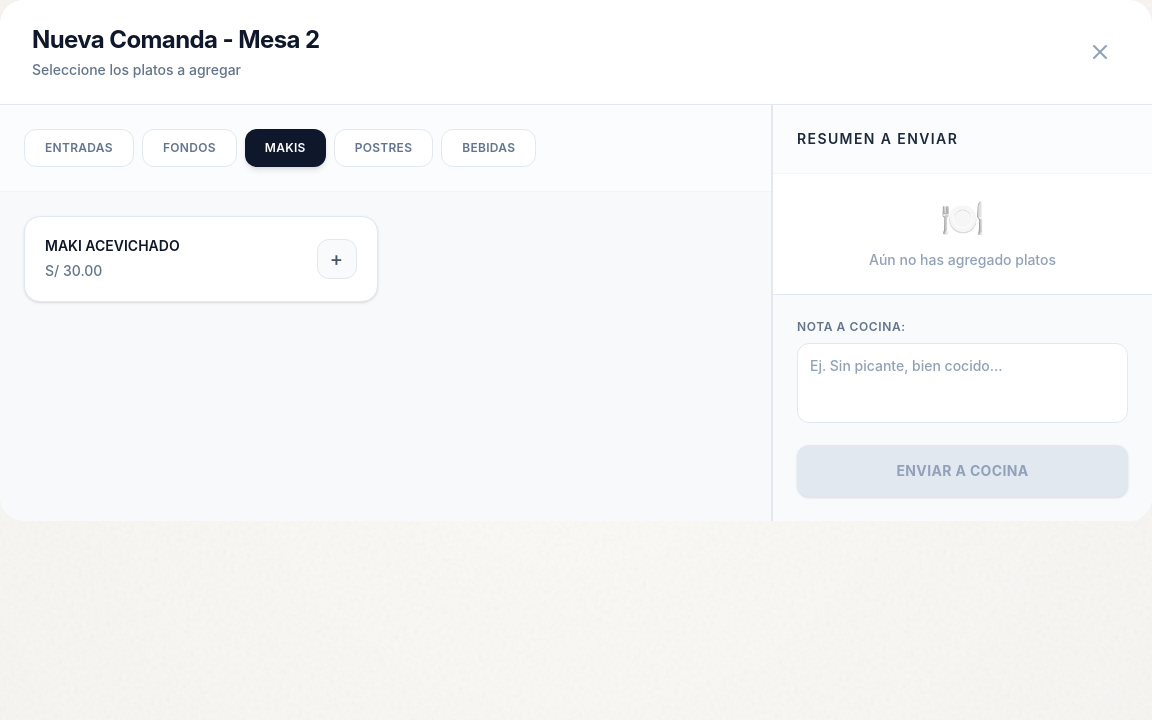
Test: 🧪 Tests para ComanderoCarta › Debería renderizar pestañas de categorías y productos filtrados
Expected: the text "MAKI ACEVICHADO" is shown, top-left (45, 237), bottom-right (180, 254)
Expected: the text "LOMO SALTADO" is not shown
Clic en FONDOS
What coordinates should you click on to do the following:
click the button "FONDOS"
I would click on:
 (189, 148)
Its box is top-left (142, 129), bottom-right (237, 167).
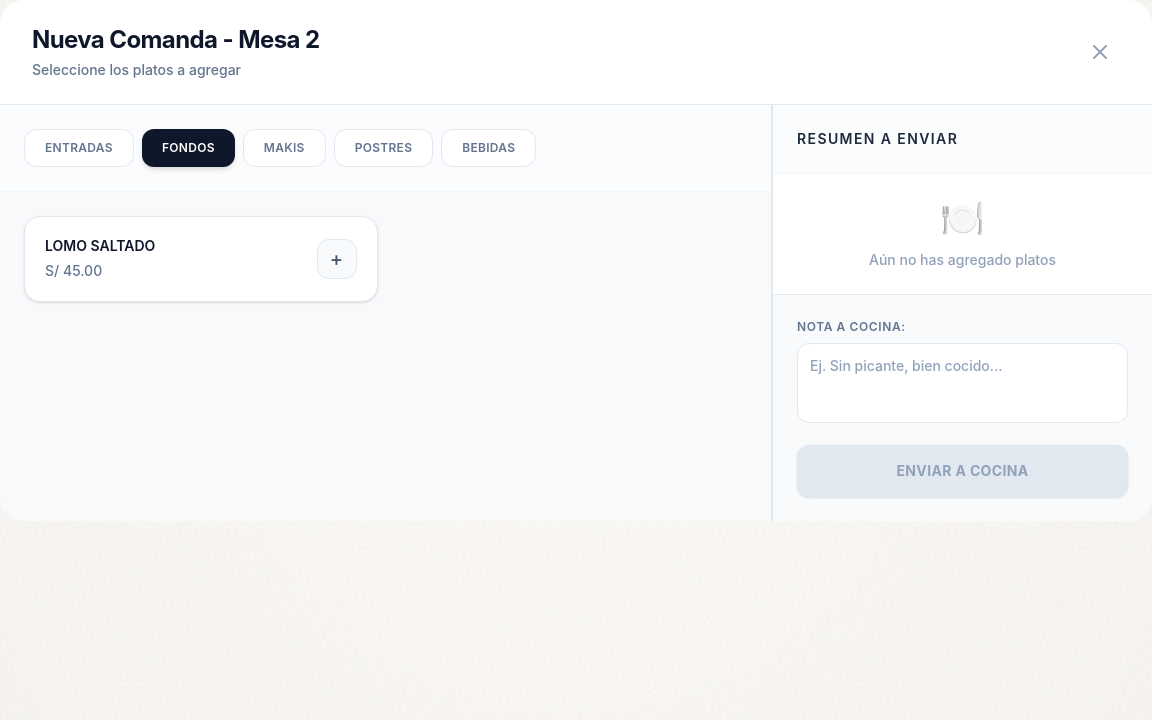
Now the text "LOMO SALTADO" is shown, box top-left (45, 237), bottom-right (155, 254)
